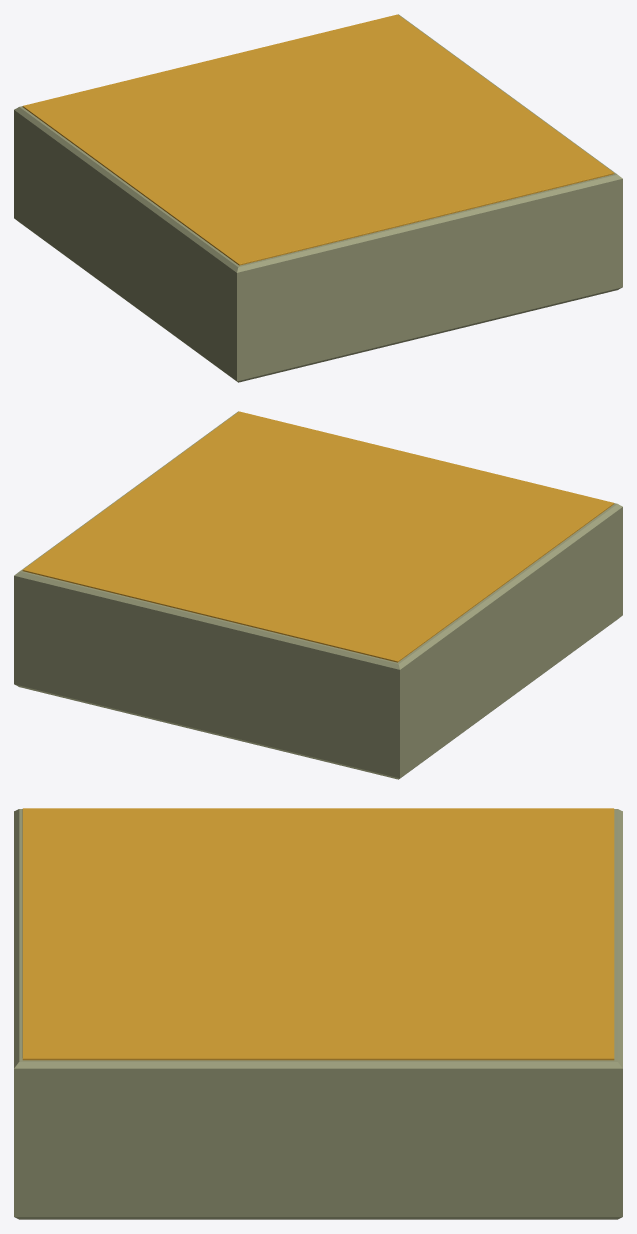
File: StarReturnHigh.obj
The picture shows the model from 3 angles, top to bottom: view 1: azimuth 30°, elevation 25°; view 2: azimuth 150°, elevation 25°; view 3: azimuth 270°, elevation 25°; orthographic projection. The views are drawn at different scales.
Parts seen in each view (by area): view 1: StarReturnHigh; view 2: StarReturnHigh; view 3: StarReturnHigh.
Boxes of the visible parts, box(x1,y1,x2,y2) form: StarReturnHigh: box(14, 14, 622, 382); StarReturnHigh: box(14, 411, 622, 779); StarReturnHigh: box(14, 808, 622, 1219).
Bounding box in the file's own units: 14 × 4.05 × 14.
